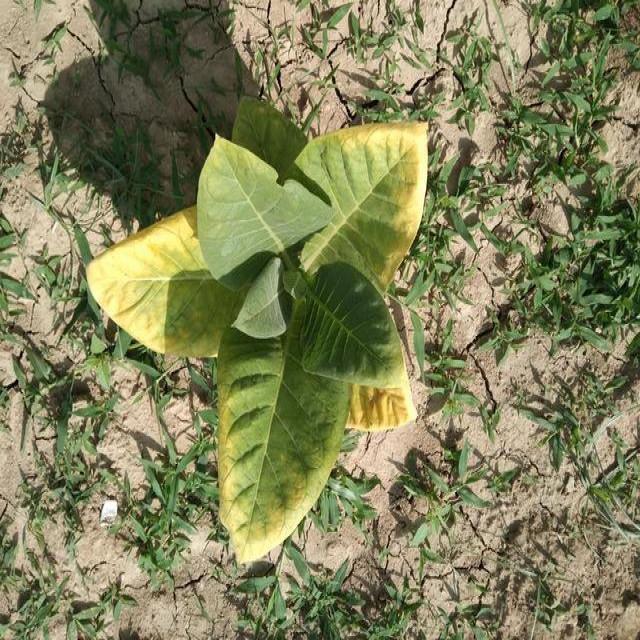crop: (79, 81, 436, 552)
